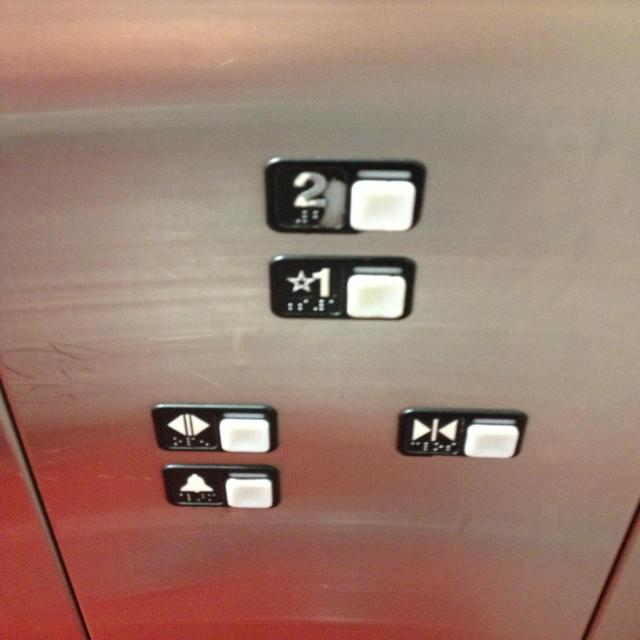2: (261, 154, 432, 236)
alarm: (160, 461, 285, 512)
close: (392, 405, 531, 460)
open: (148, 401, 278, 455)
s1: (264, 251, 421, 323)
